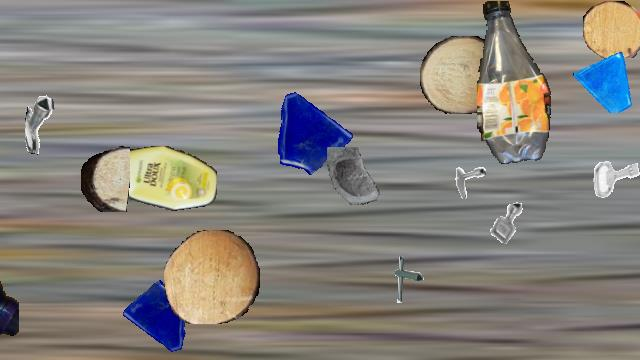glass: (265, 85, 355, 175), (121, 280, 199, 358), (321, 147, 389, 215), (573, 50, 635, 112)
metal: (25, 95, 87, 157), (585, 148, 640, 208), (479, 195, 535, 251), (380, 253, 432, 305), (444, 156, 486, 198)
plastic: (477, 1, 553, 163), (104, 146, 216, 212), (0, 206, 18, 342)
wood: (164, 230, 260, 324), (420, 36, 502, 114), (583, 1, 640, 59), (81, 145, 129, 211)
